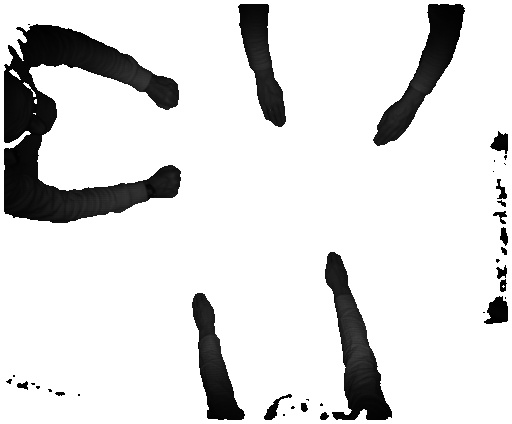fist: (152, 160, 183, 199), (151, 77, 183, 111)
hand: (368, 98, 417, 151), (256, 80, 287, 127), (320, 248, 354, 290), (192, 288, 223, 330)
